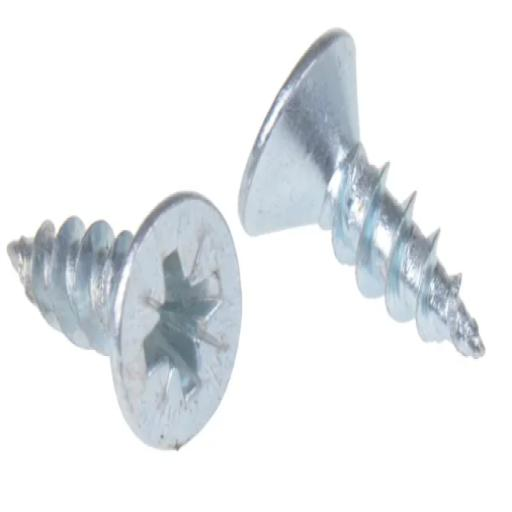Phillips: (108, 188, 243, 455)
